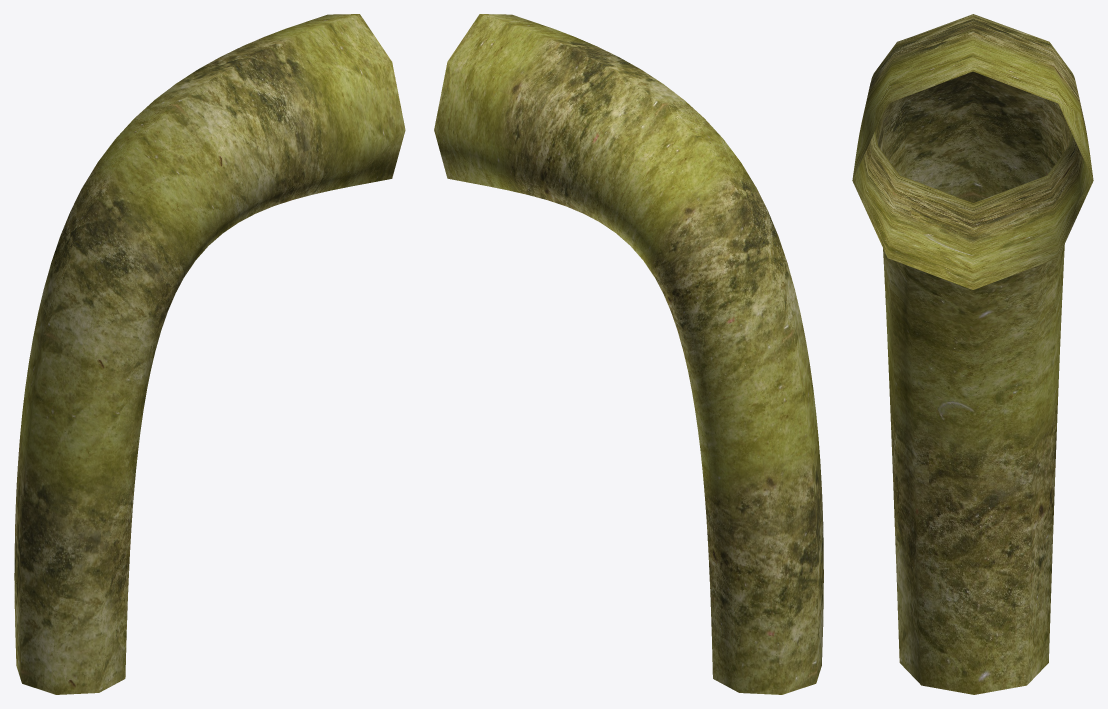
Rendered from pipe_water.fbx.
3 renders of one model, left to right at view 1: azimuth 30°, elevation 25°; view 2: azimuth 150°, elevation 25°; view 3: azimuth 270°, elevation 25°, orthographic. The views are drawn at different scales.
Visible parts, largest first — view 1: nurbsToPoly1; view 2: nurbsToPoly1; view 3: nurbsToPoly1.
Boxes of the visible parts, <box> form: nurbsToPoly1: <box>14,14,405,694</box>; nurbsToPoly1: <box>434,14,823,694</box>; nurbsToPoly1: <box>852,14,1093,694</box>.
Size of the model in its own units: 188 by 312 by 87.62.
Materials: 1 (1 with a texture image).
